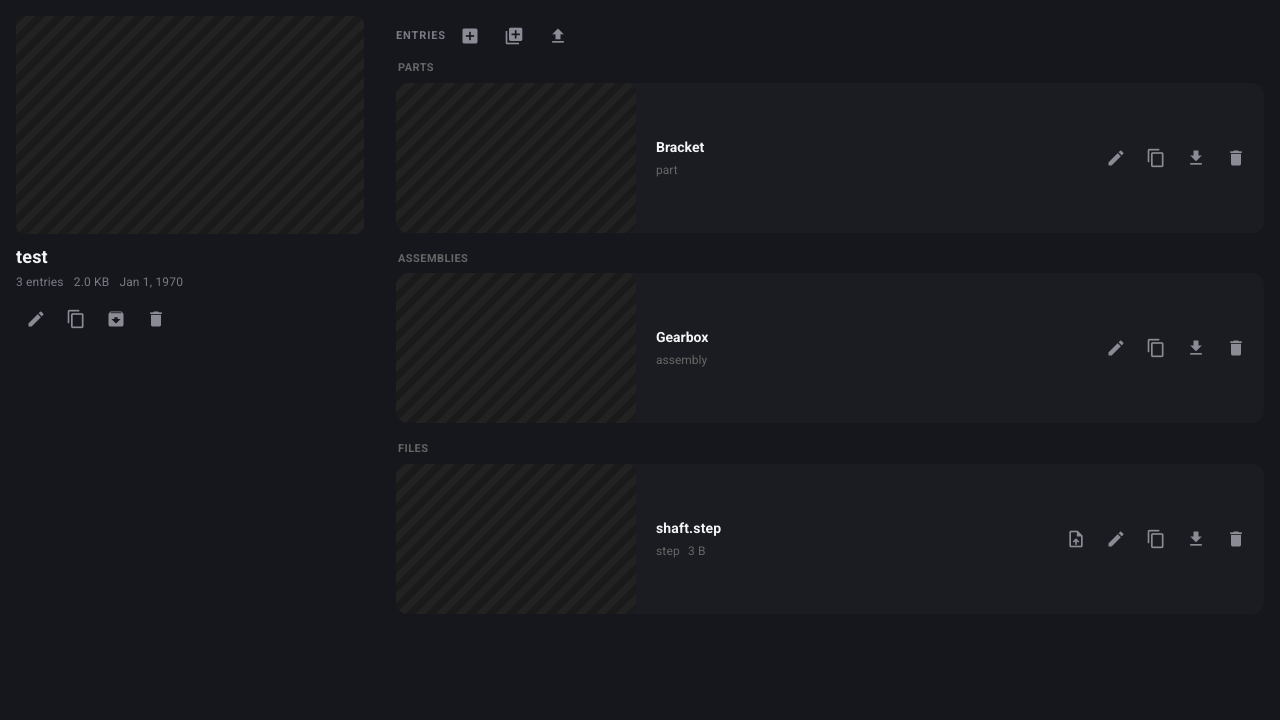
Scenario: WorkspaceView entry export › downloads a part source byte for byte from the dialog
Expected: the text "Bracket" is shown, [656,136,704,158]
Click the button named "Export Bracket".
click(1196, 158)  # box [1176,138,1216,178]
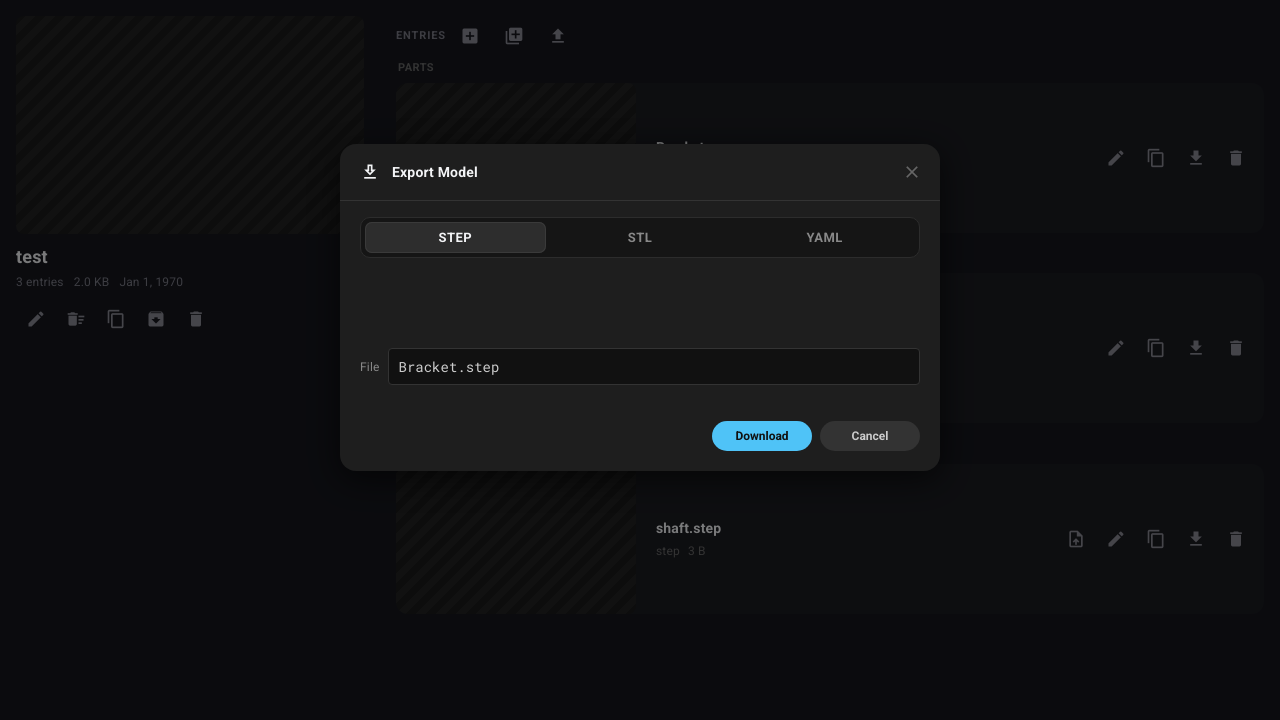
Click the tab labelled "YAML".
click(825, 238)  # box [734,222,915,253]
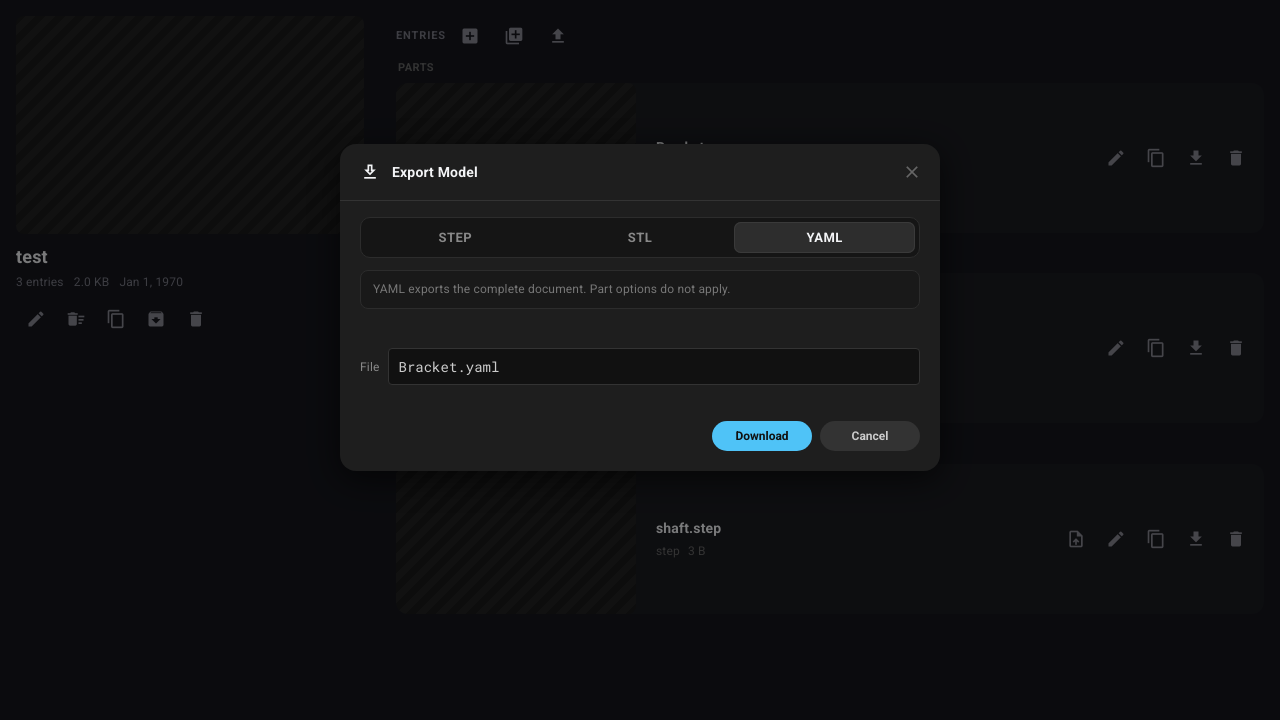
Click the button "Download".
click(762, 436)  # box [712,421,812,451]
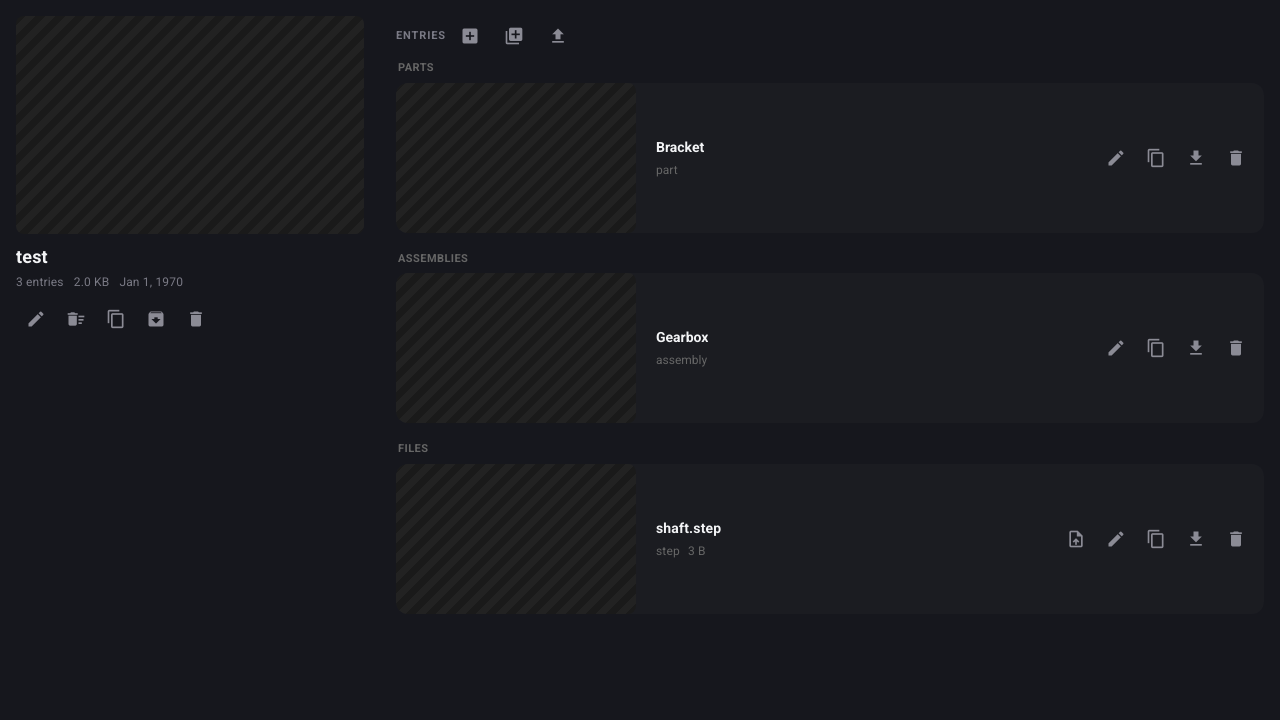
Now the heading "Export Model" is gone
